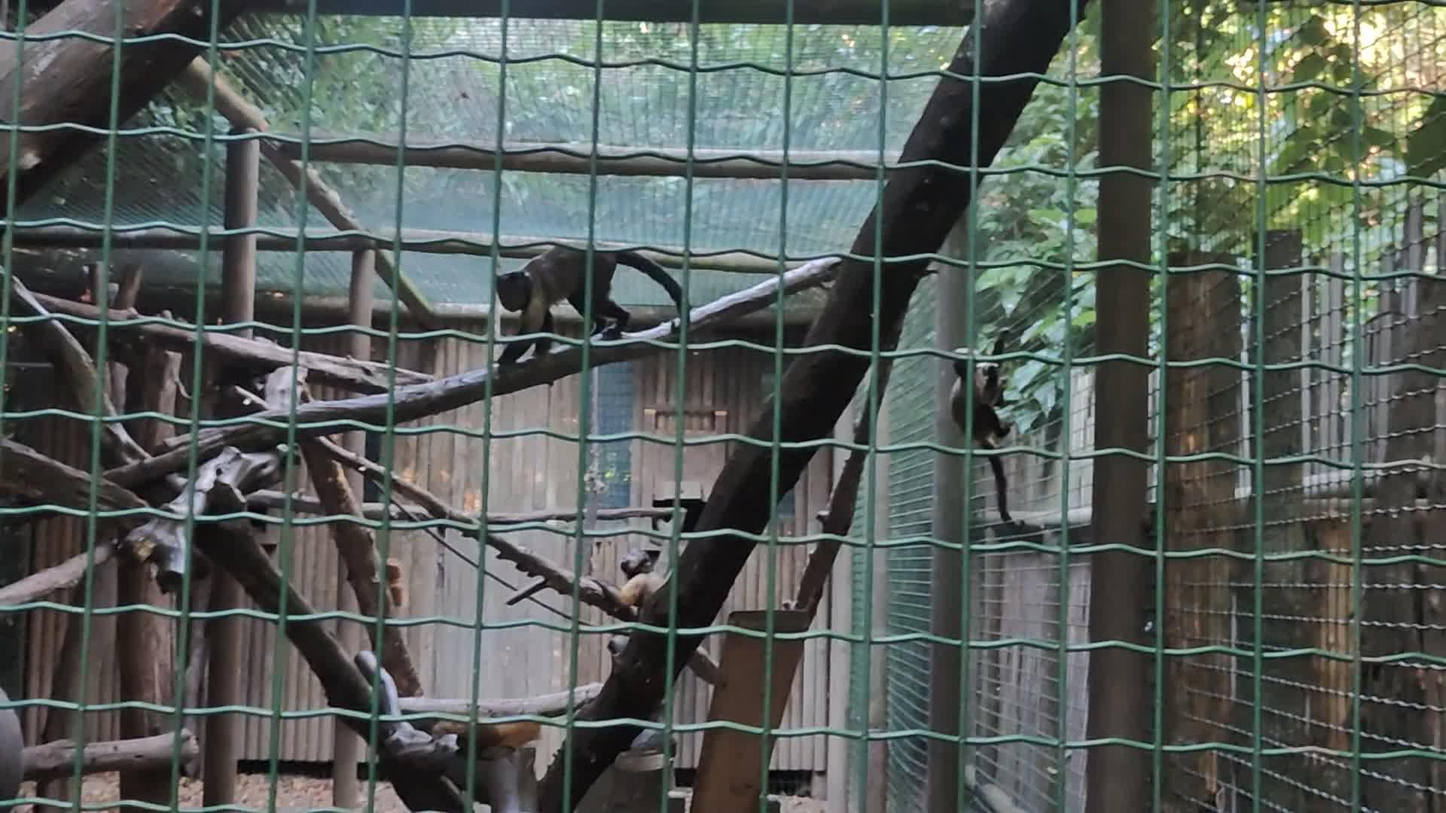boar: (496, 241, 692, 363), (948, 327, 1025, 532)
